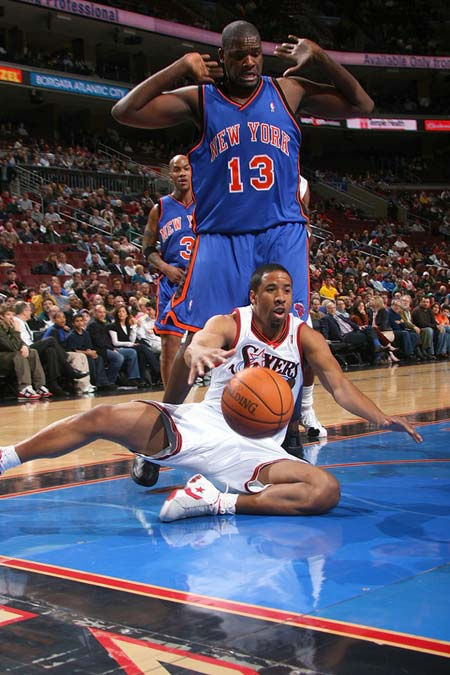10+: (1, 1, 450, 526)
down: (6, 261, 427, 523)
